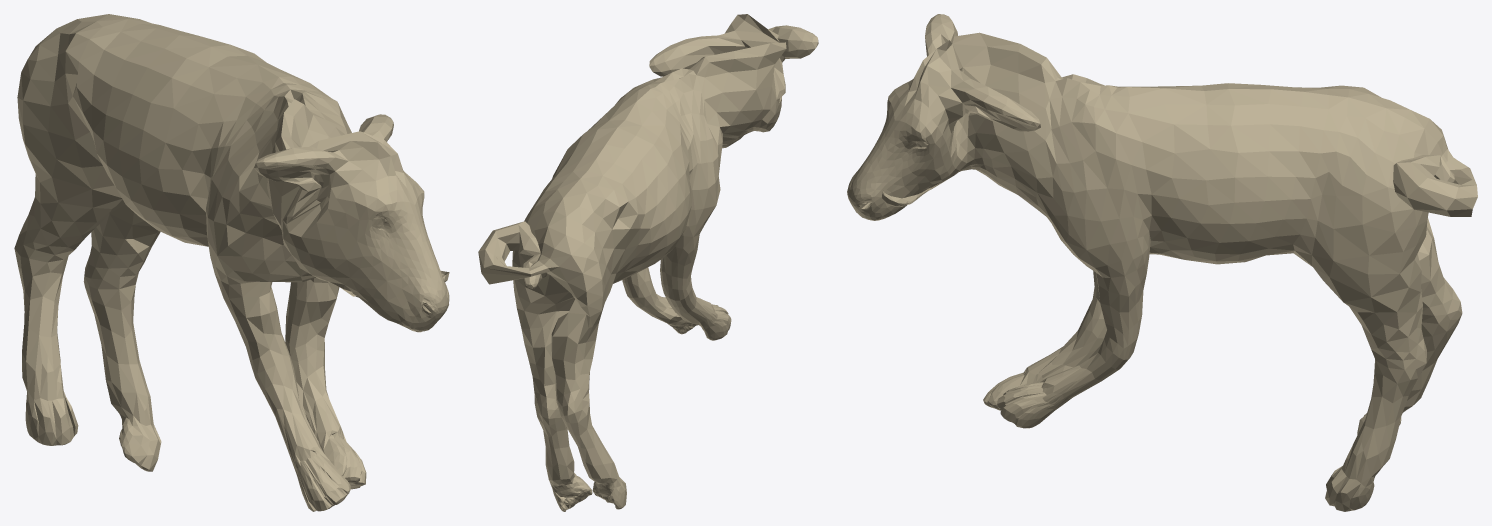
The picture shows the model from 3 angles, left to right: view 1: azimuth 30°, elevation 25°; view 2: azimuth 150°, elevation 25°; view 3: azimuth 270°, elevation 25°; orthographic projection. The views are drawn at different scales.
Visible parts, largest first — view 1: world; view 2: world; view 3: world.
Boxes of the visible parts, box(x1,y1,x2,y2) form: world: box(14, 14, 449, 511); world: box(478, 14, 818, 511); world: box(847, 14, 1477, 511).
Size of the model in its own units: 0.5357 by 1.34 by 1.69.
